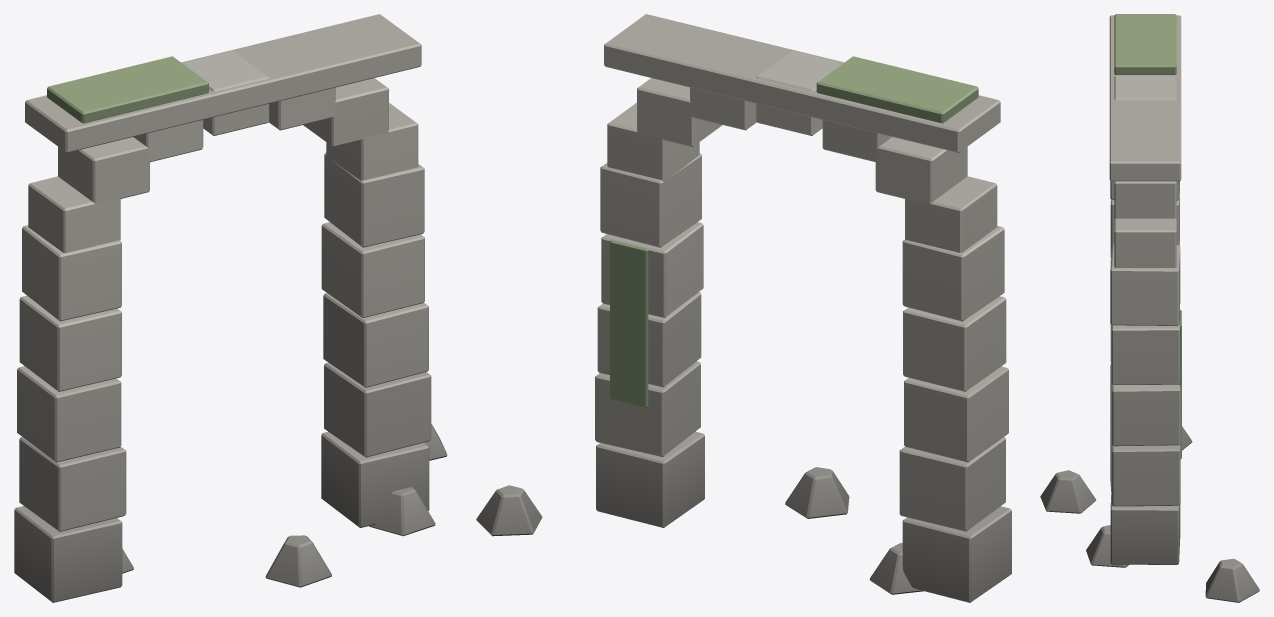
The model's file is iv_ruin_arch.glb.
3 views of the same model, side by side, from view 1: azimuth 30°, elevation 25°; view 2: azimuth 150°, elevation 25°; view 3: azimuth 270°, elevation 25° (orthographic). The views are drawn at different scales.
Visible parts, largest first — view 1: iv_ruin_arch; view 2: iv_ruin_arch; view 3: iv_ruin_arch.
Boxes of the visible parts, left/top/right/bottom form: iv_ruin_arch: left=14, top=14, right=447, bottom=602; iv_ruin_arch: left=476, top=14, right=1011, bottom=602; iv_ruin_arch: left=1040, top=14, right=1259, bottom=602.
Size of the model in its own units: 7.26 by 7.29 by 3.52.
